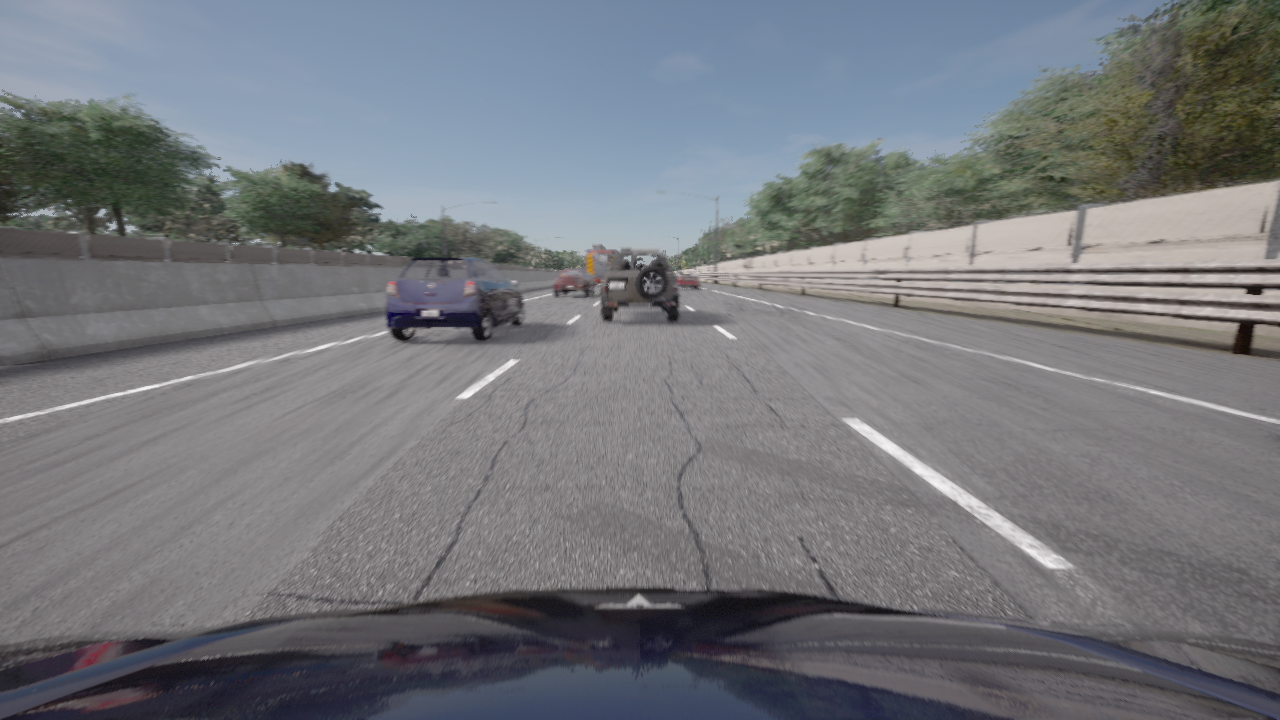cyclist: (0, 588, 1279, 719), (385, 257, 523, 340), (600, 249, 679, 321), (586, 245, 617, 286), (553, 269, 596, 296), (675, 270, 699, 289)
